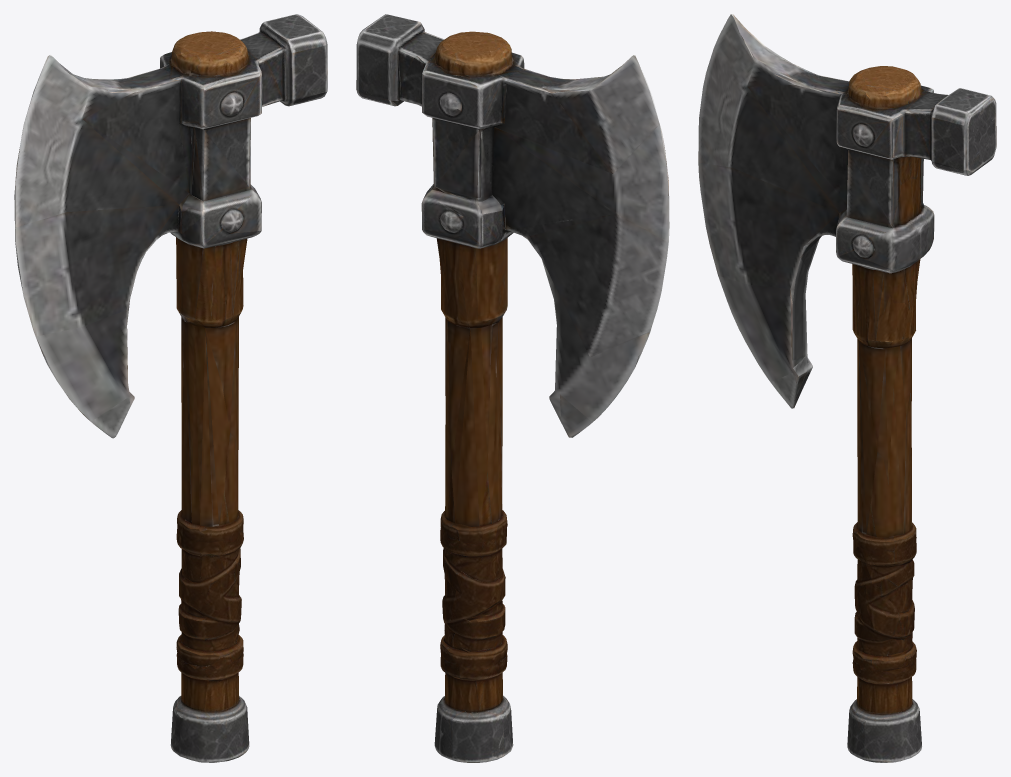
File: timberfall_axe.glb
3 views of the same model, side by side, from view 1: azimuth 30°, elevation 25°; view 2: azimuth 150°, elevation 25°; view 3: azimuth 330°, elevation 25° (orthographic). The views are drawn at different scales.
Bounding box in the file's own units: 0.575 × 1.35 × 0.1699.
Materials: 1 (1 with a texture image).
